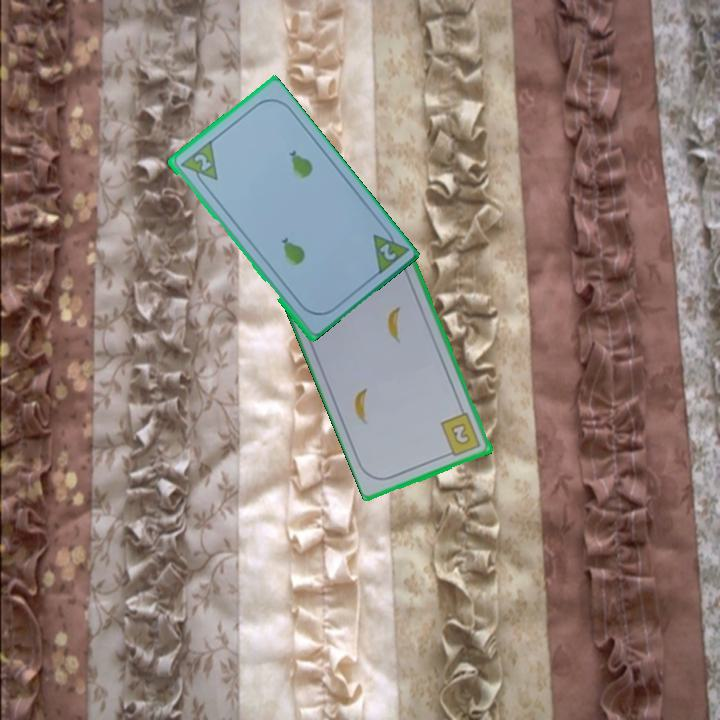2b: (438, 410, 484, 460)
2p: (190, 150, 214, 174), (375, 240, 399, 263)
